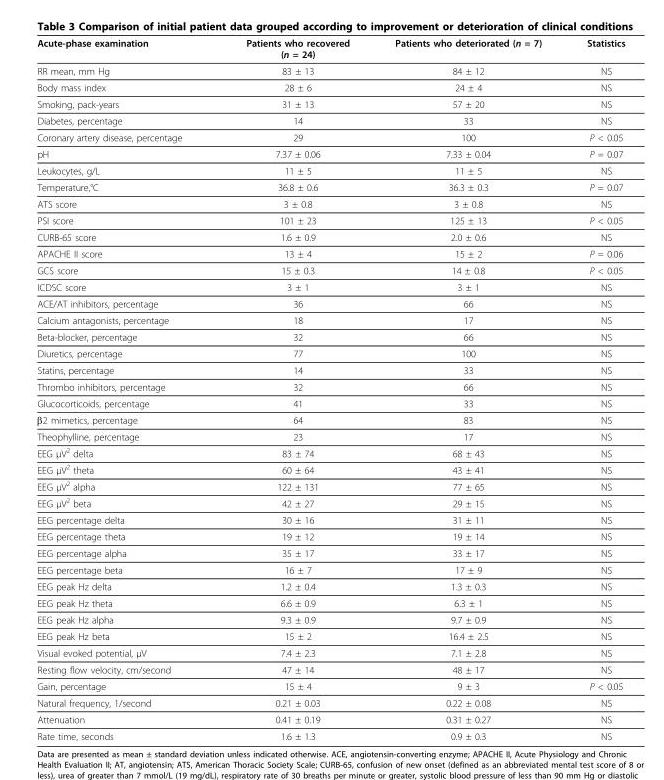table: (36, 36, 624, 741)
table column: (371, 36, 563, 741), (36, 36, 213, 741), (213, 36, 371, 741), (563, 36, 624, 741)
table column header: (36, 36, 624, 62)
table row: (36, 36, 624, 62), (36, 410, 624, 428), (36, 493, 624, 511), (36, 78, 624, 95), (36, 95, 624, 112), (36, 128, 624, 145), (36, 145, 624, 162), (36, 178, 624, 195), (36, 211, 624, 228), (36, 228, 624, 245), (36, 261, 624, 278), (36, 278, 624, 295), (36, 311, 624, 328), (36, 344, 624, 361), (36, 361, 624, 378), (36, 460, 624, 477), (36, 527, 624, 544), (36, 544, 624, 561), (36, 577, 624, 594), (36, 594, 624, 611), (36, 627, 624, 644), (36, 660, 624, 677), (36, 677, 624, 694), (36, 710, 624, 727), (36, 62, 624, 78), (36, 112, 624, 128), (36, 162, 624, 178), (36, 195, 624, 211), (36, 245, 624, 261), (36, 295, 624, 311), (36, 328, 624, 344), (36, 378, 624, 394), (36, 394, 624, 410), (36, 428, 624, 444), (36, 444, 624, 460), (36, 477, 624, 493), (36, 511, 624, 527), (36, 561, 624, 577), (36, 611, 624, 627), (36, 644, 624, 660), (36, 694, 624, 710), (36, 727, 624, 741)
